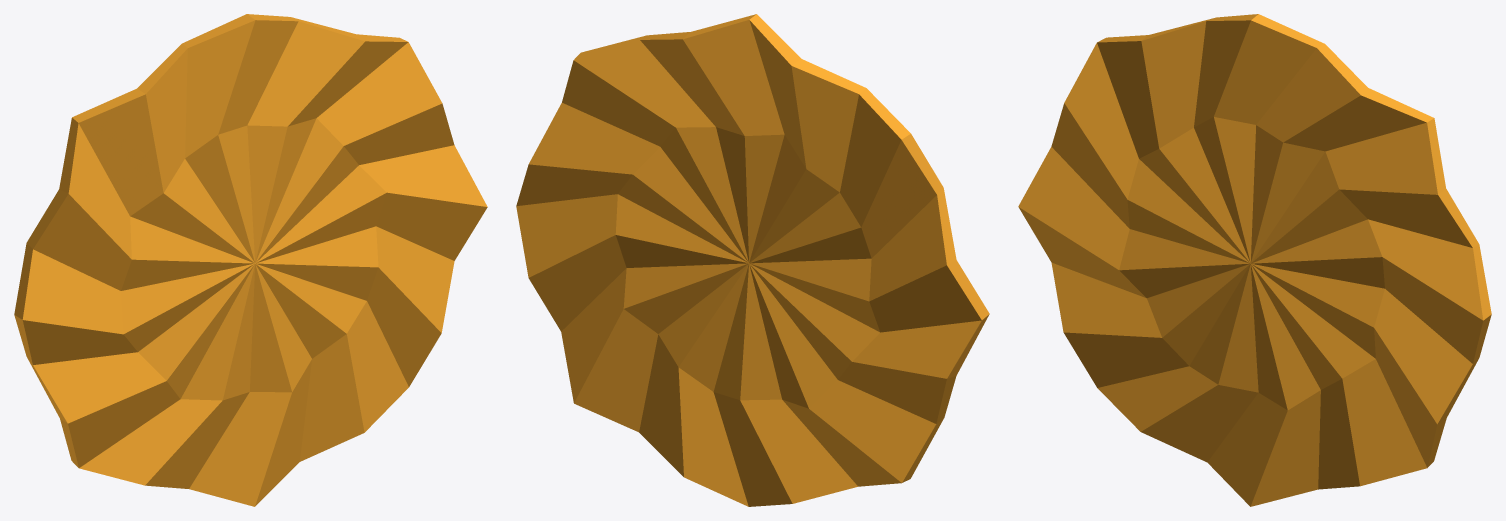
File: SM_Decor_Circle_E_4july.fbx
3 views of the same model, side by side, from view 1: azimuth 30°, elevation 25°; view 2: azimuth 150°, elevation 25°; view 3: azimuth 330°, elevation 25° (orthographic).
Visible parts, largest first — view 1: decor-circle-e-4july; view 2: decor-circle-e-4july; view 3: decor-circle-e-4july.
Part boxes in pixels (x1=…): decor-circle-e-4july: x1=14, y1=14, x2=487, y2=506; decor-circle-e-4july: x1=516, y1=14, x2=989, y2=506; decor-circle-e-4july: x1=1018, y1=14, x2=1491, y2=506.
Size of the model in its own units: 0.3307 by 0.3307 by 0.024.
